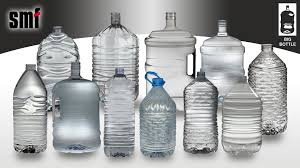Botella: (139, 78, 175, 156), (102, 75, 134, 156)
